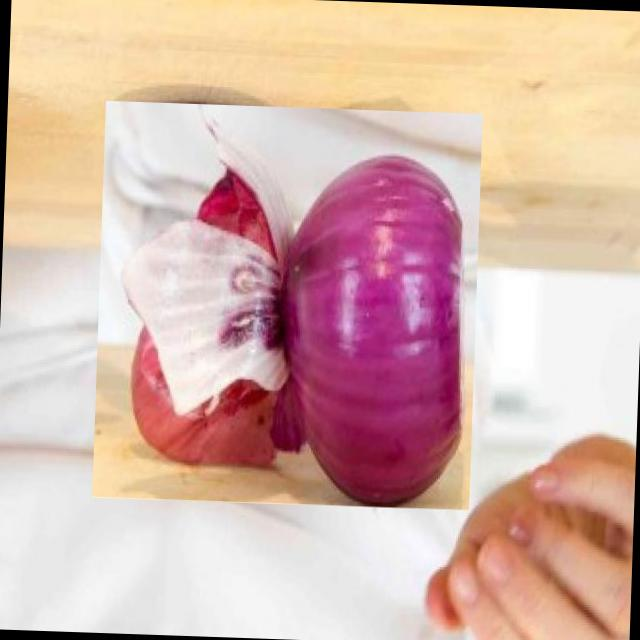Onion: (90, 100, 482, 510)
